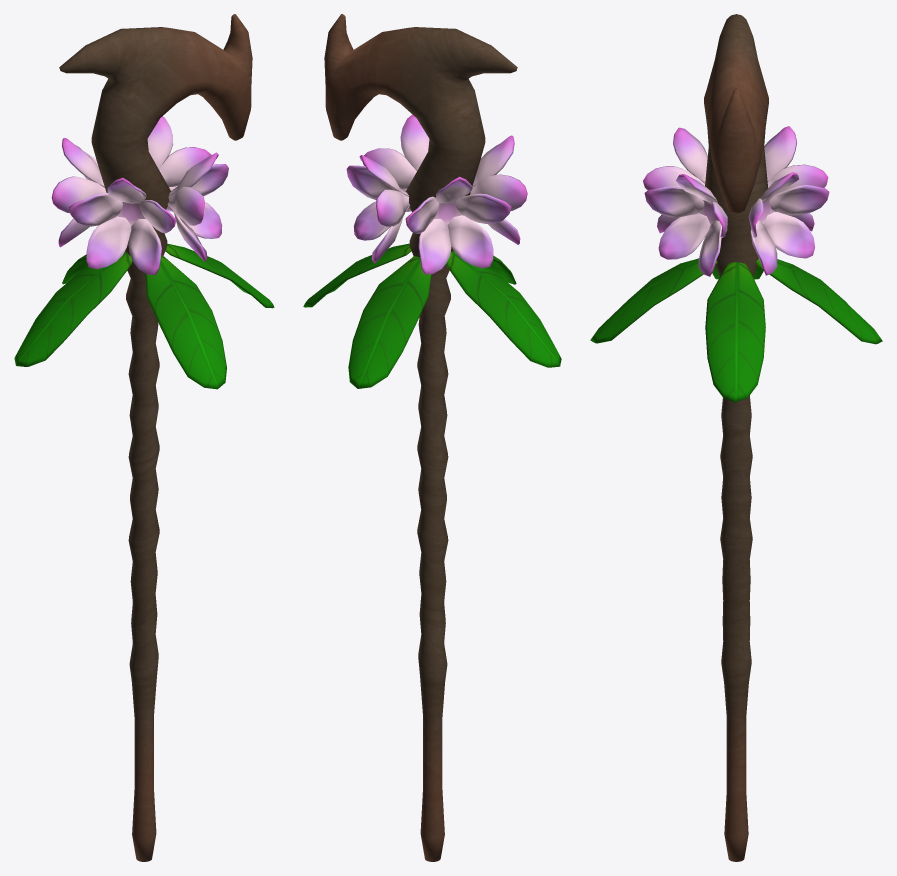
The model's file is Staff.fbx.
3 views of the same model, side by side, from view 1: azimuth 30°, elevation 25°; view 2: azimuth 150°, elevation 25°; view 3: azimuth 270°, elevation 25° (orthographic).
Parts seen in each view (by area): view 1: Circle.004; view 2: Circle.004; view 3: Circle.004.
Boxes of the visible parts, x1,y1,x2,y2 form: Circle.004: (14,14,274,861); Circle.004: (303,14,561,861); Circle.004: (590,14,882,861).
Bounding box in the file's own units: 48.15 × 150 × 48.15.
